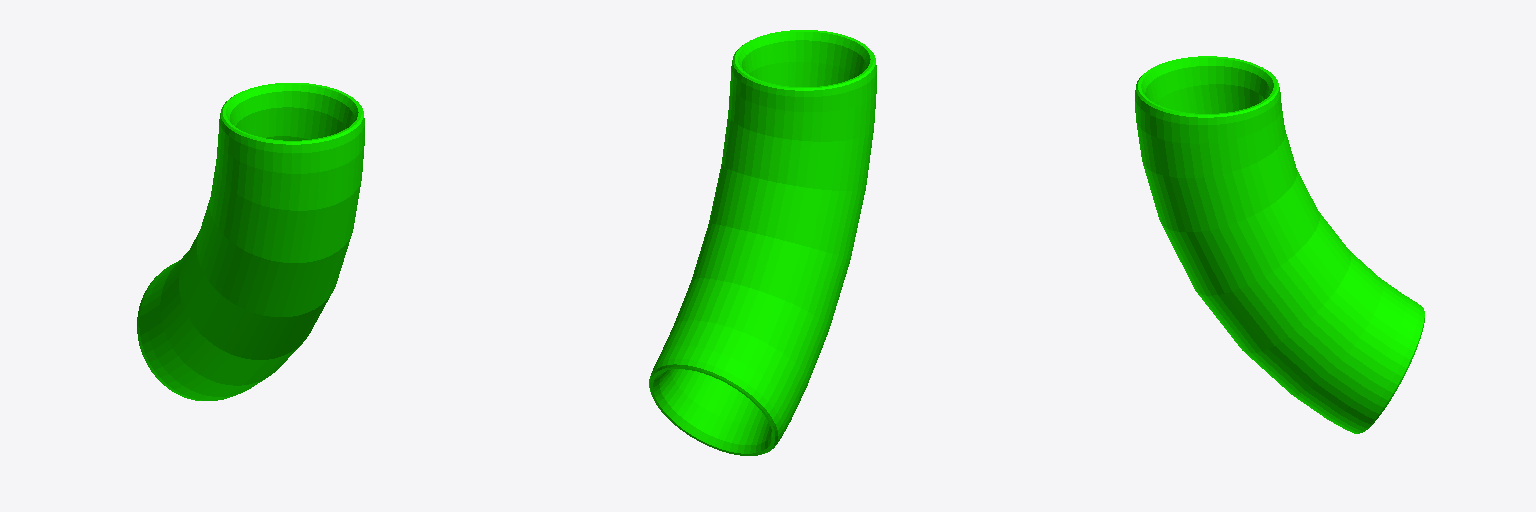
Rendered from Model_PipeCurve_30.obj.
The picture shows the model from 3 angles: view 1: azimuth 30°, elevation 25°; view 2: azimuth 150°, elevation 25°; view 3: azimuth 270°, elevation 25°; orthographic projection.
Parts seen in each view (by area): view 1: Pipe; view 2: Pipe; view 3: Pipe.
Part boxes in pixels (x1,y1,x2,y2): Pipe: (137, 83, 364, 400); Pipe: (649, 30, 876, 455); Pipe: (1135, 56, 1424, 433).
Bounding box in the file's own units: 1.91 × 4.9 × 3.78.